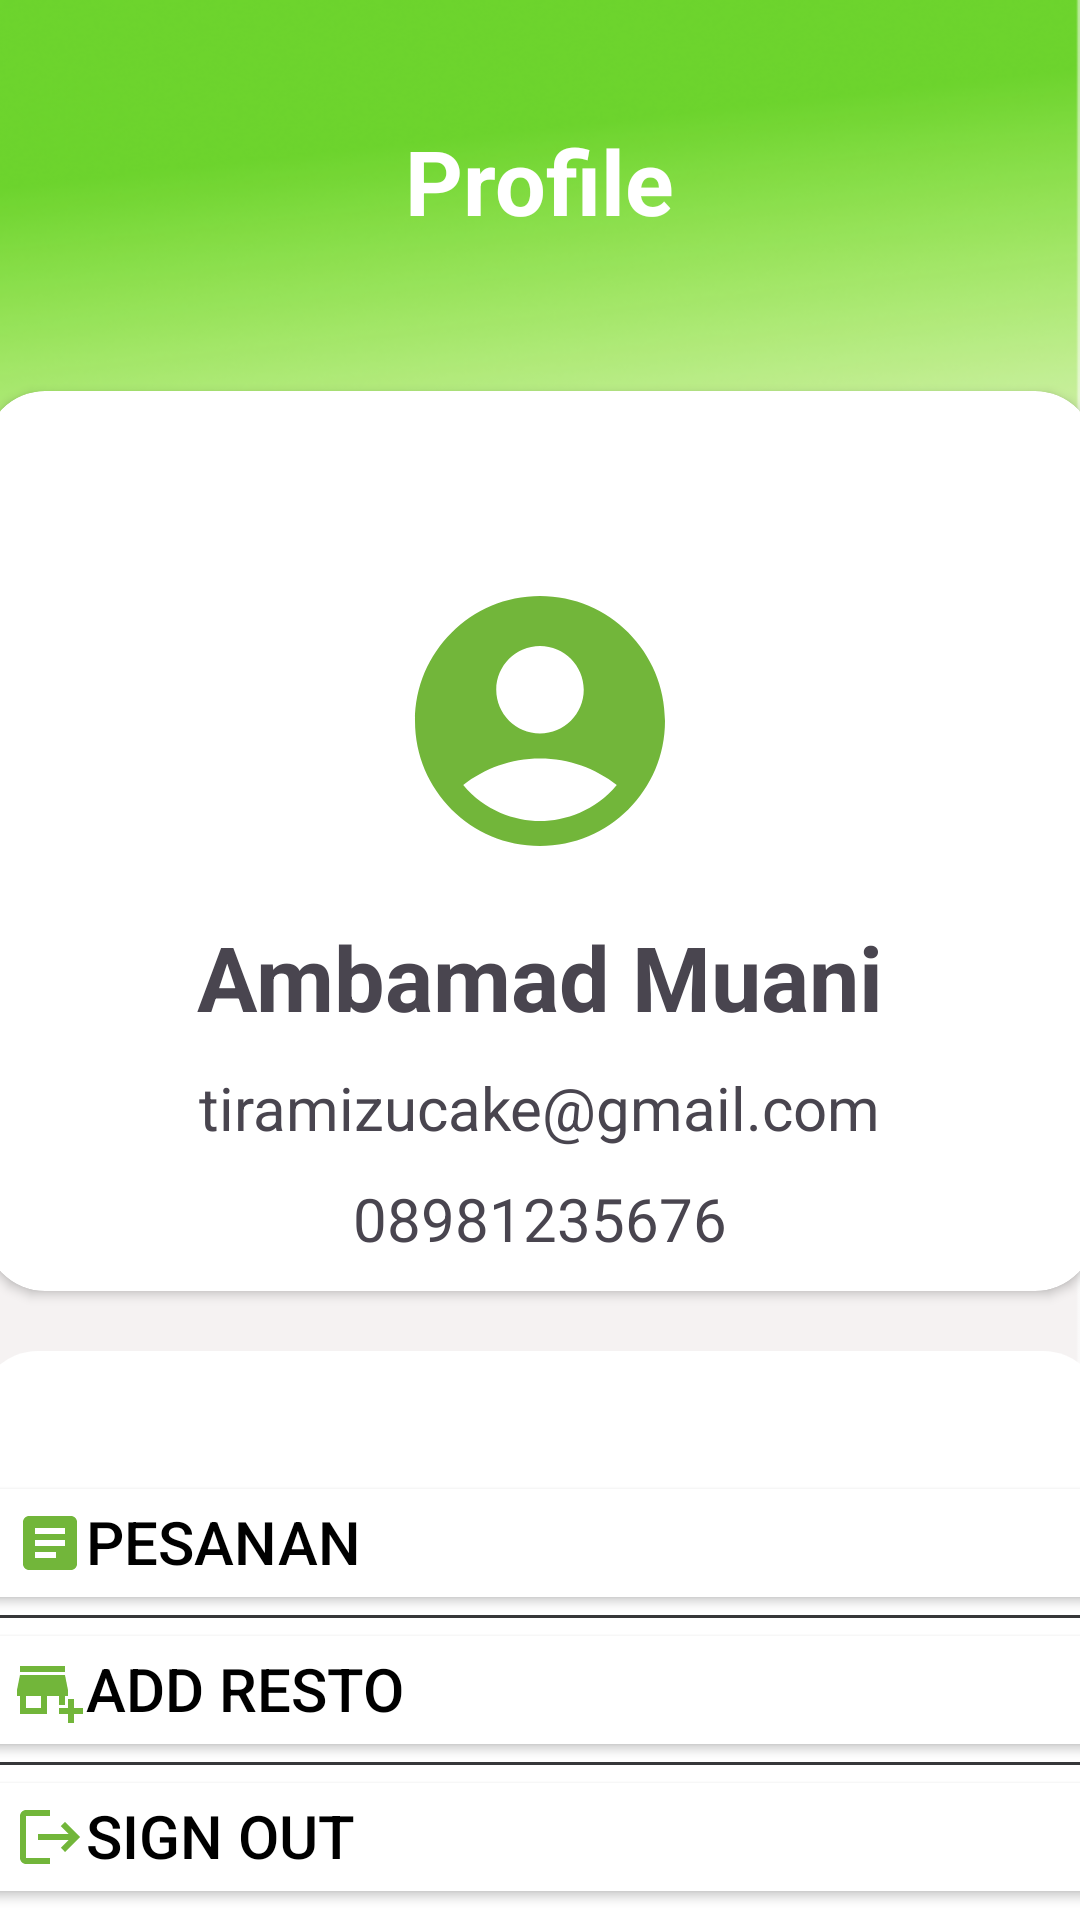

Screen size 1080×1920. Icon name, then its box in pixels as (x1, y1, x2, y2):
account circle: (415, 596, 665, 846)
